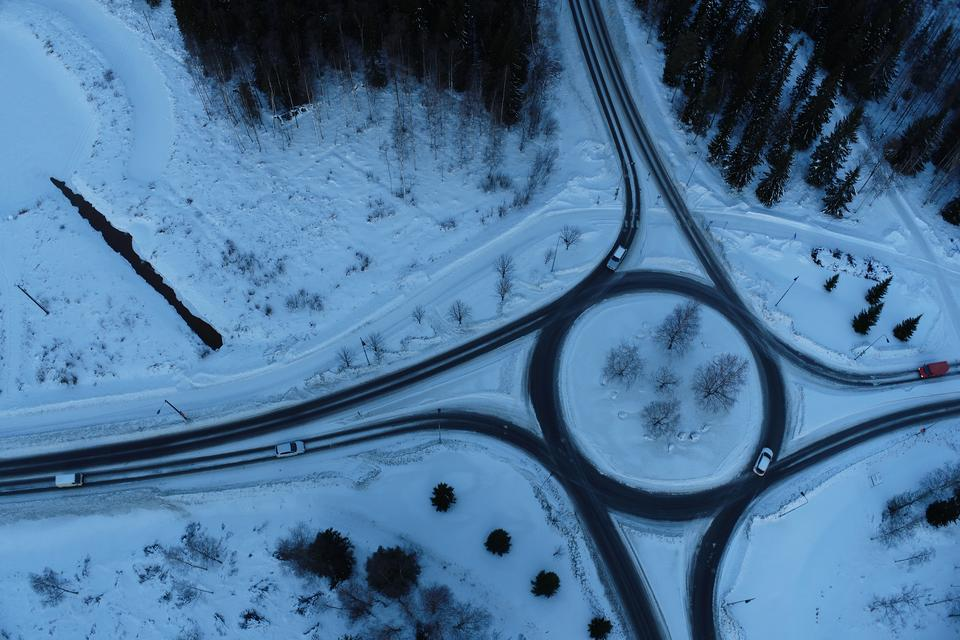intersection: (584, 188, 731, 240)
roundabout: (492, 244, 818, 545)
